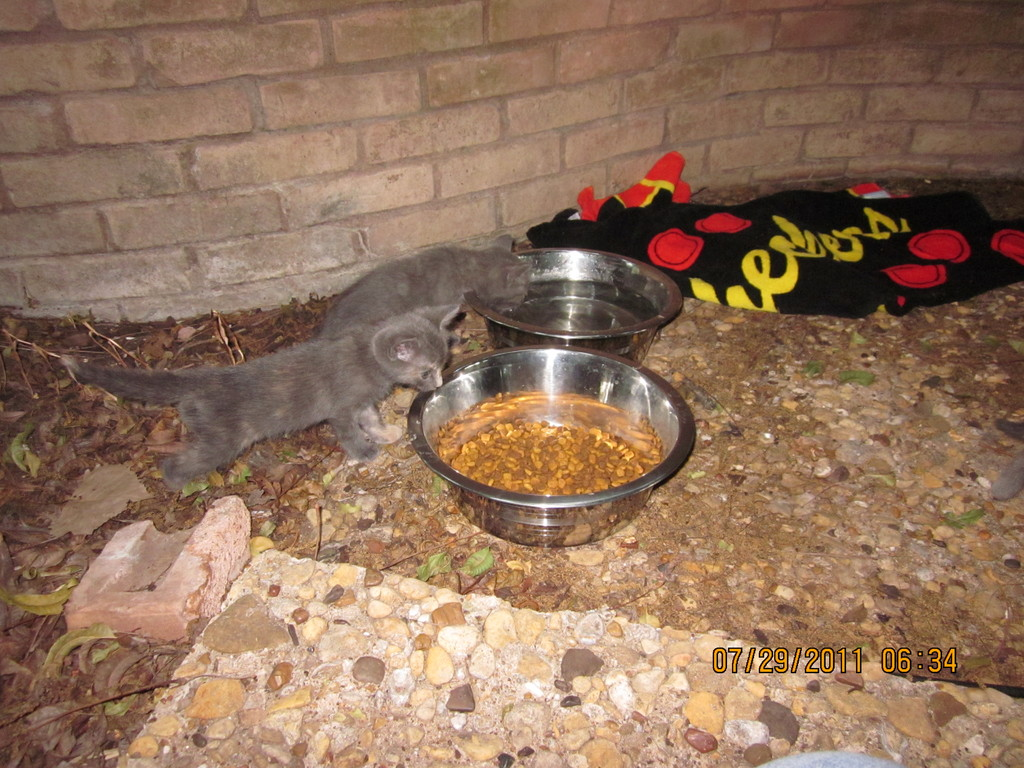Animal: (51, 300, 459, 489), (321, 225, 531, 339)
